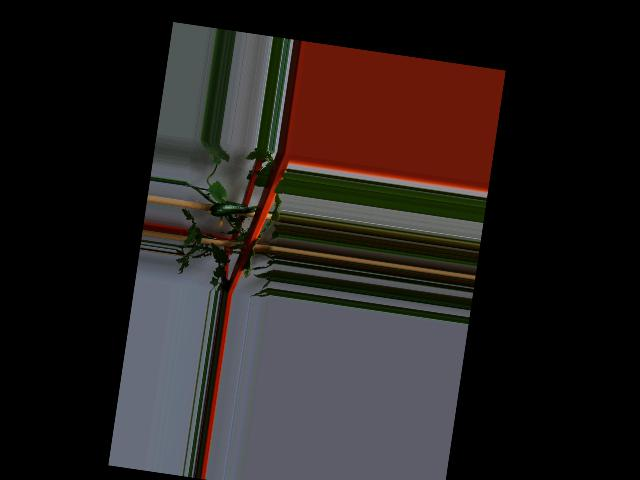cucumber: (205, 198, 250, 221)
